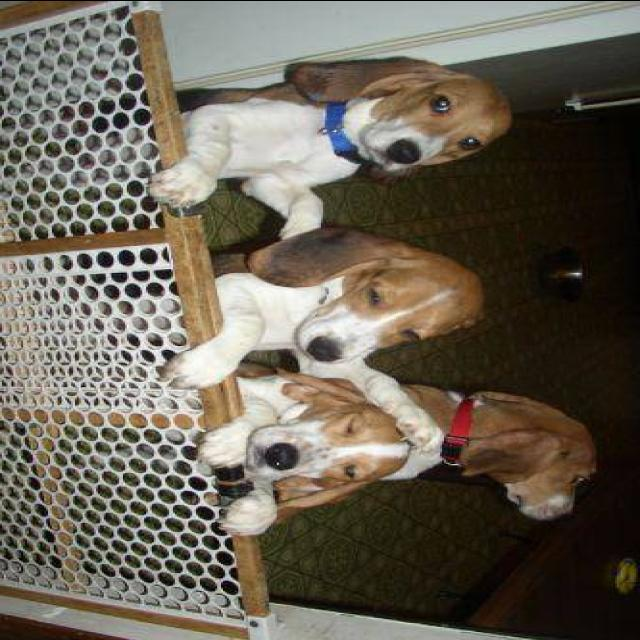dog: (134, 52, 520, 216)
